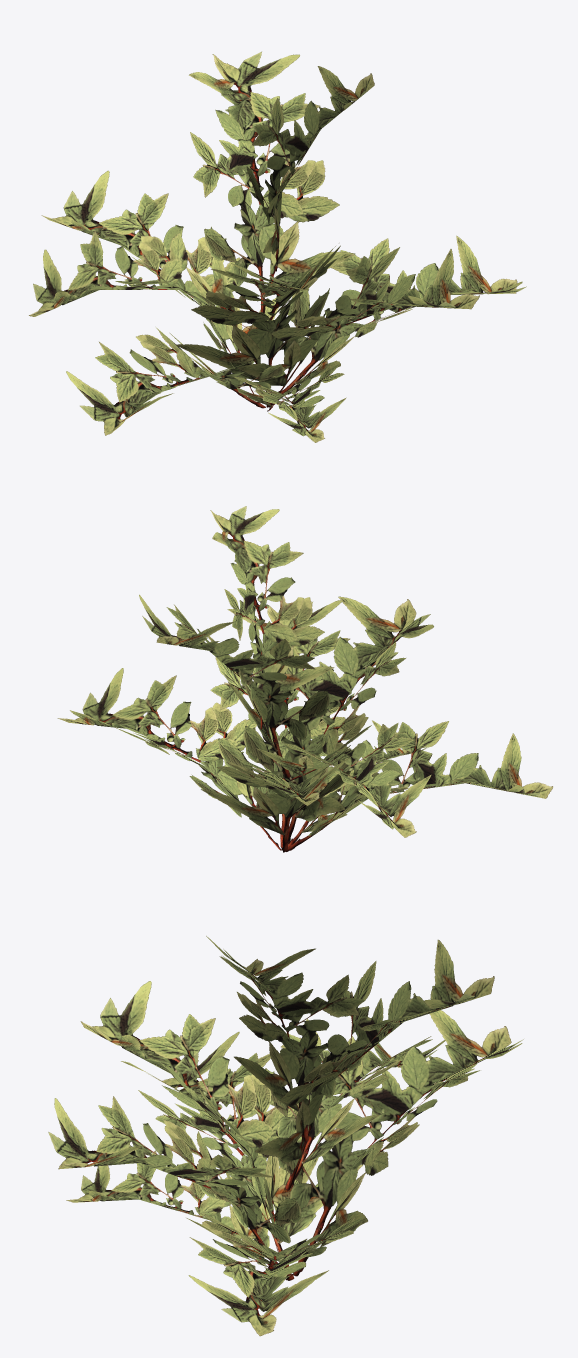
Rendered from bush1.fbx.
The picture shows the model from 3 angles, top to bottom: view 1: azimuth 30°, elevation 25°; view 2: azimuth 150°, elevation 25°; view 3: azimuth 270°, elevation 25°; orthographic projection. The views are drawn at different scales.
Parts seen in each view (by area): view 1: Box001; view 2: Box001; view 3: Box001.
Part boxes in pixels (bbox=[...]): Box001: bbox=[29, 51, 526, 442]; Box001: bbox=[57, 506, 552, 852]; Box001: bbox=[48, 936, 523, 1336].
Bounding box in the file's own units: 1.56 × 1.05 × 1.26.
